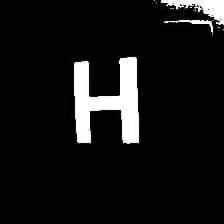LTR_H: (65, 49, 143, 150)
